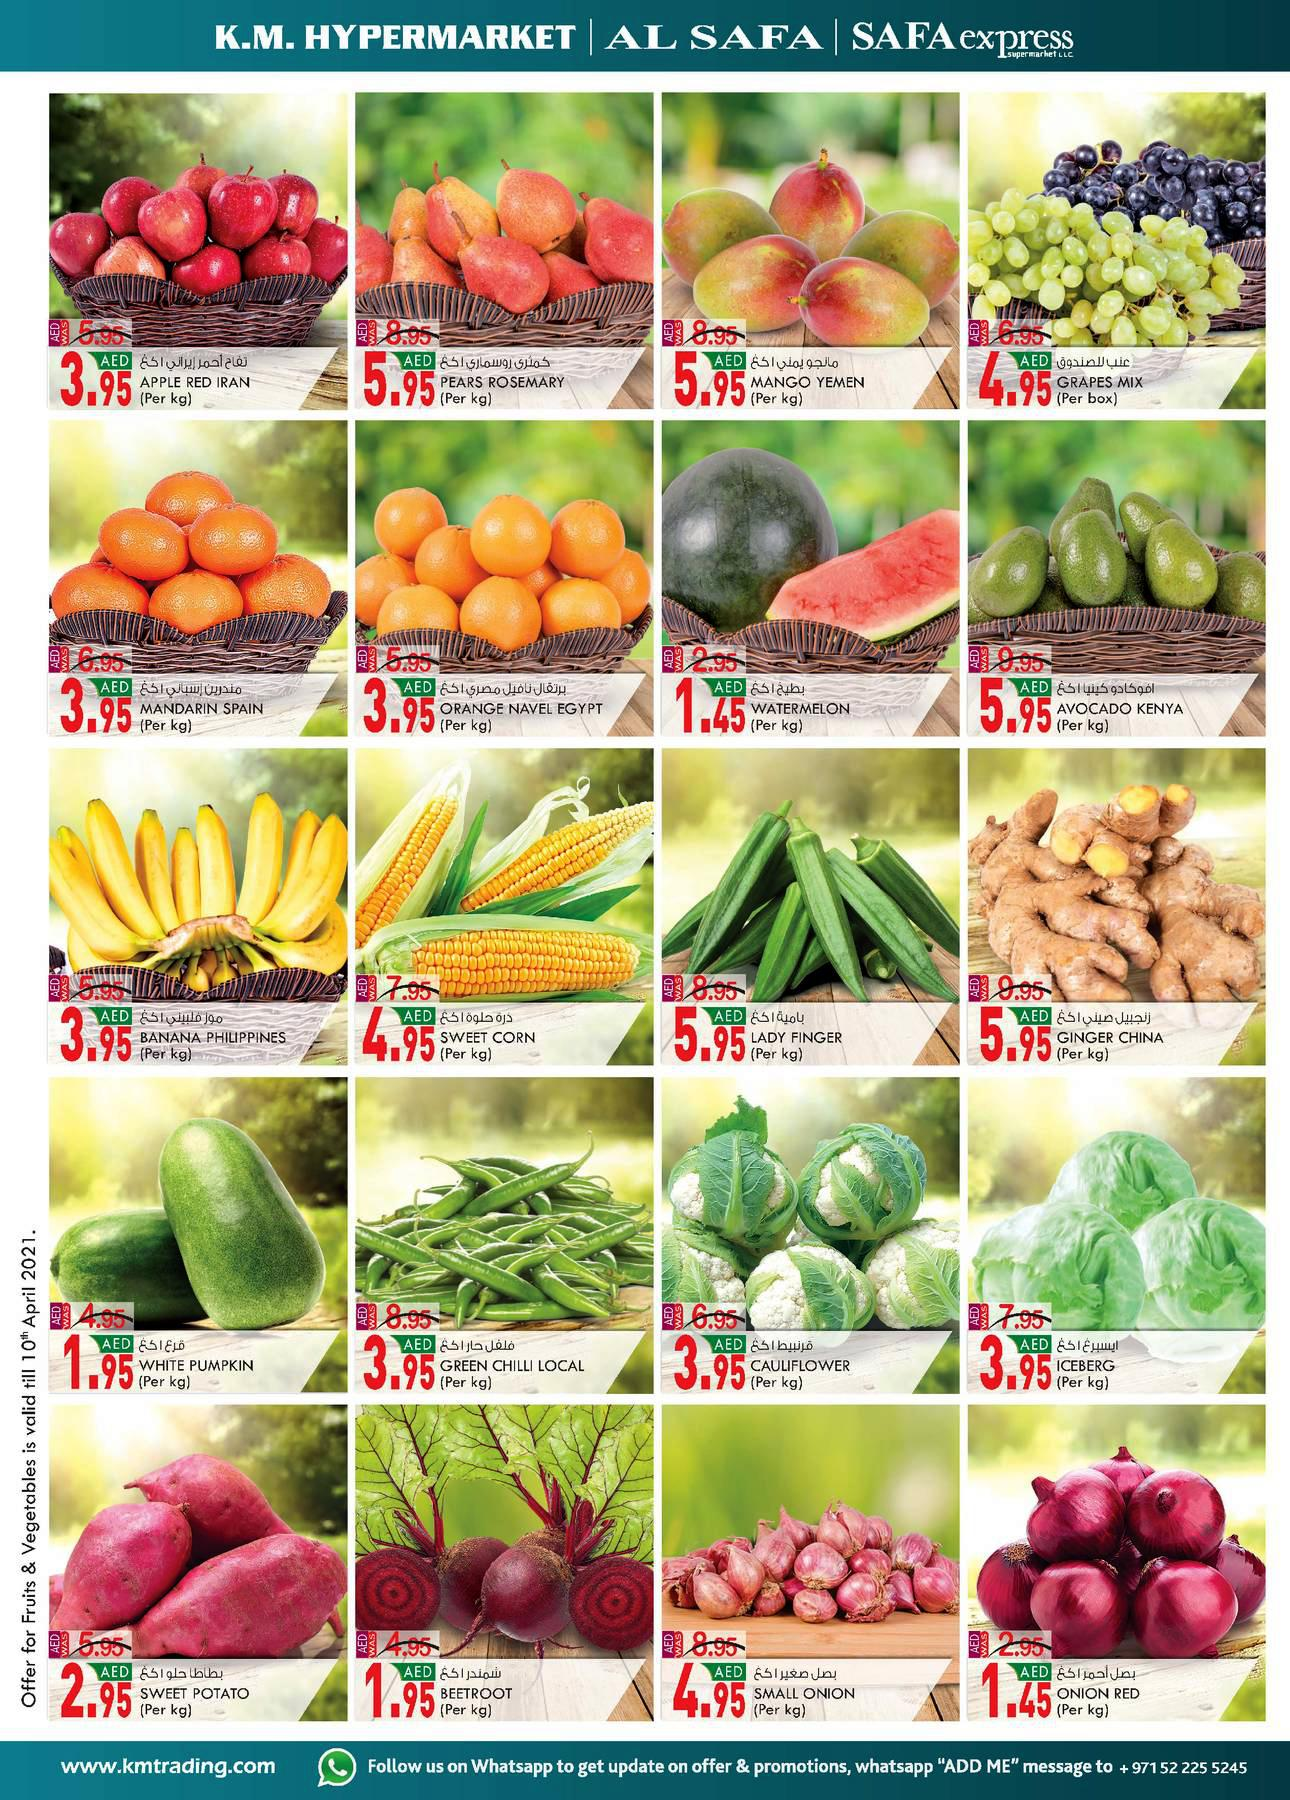text: (438, 675, 607, 740), (437, 1331, 589, 1400), (133, 1005, 295, 1065), (1053, 677, 1196, 740), (133, 675, 271, 738), (436, 347, 571, 410), (746, 347, 873, 413), (1055, 1002, 1173, 1070), (133, 1660, 255, 1725), (133, 1333, 260, 1394), (746, 1660, 866, 1725), (134, 350, 258, 410), (748, 1333, 859, 1398), (746, 677, 856, 742), (437, 1005, 543, 1067), (746, 1003, 847, 1067), (1051, 1662, 1146, 1726), (1053, 349, 1148, 412), (434, 1660, 519, 1725), (1054, 1333, 1125, 1398)
